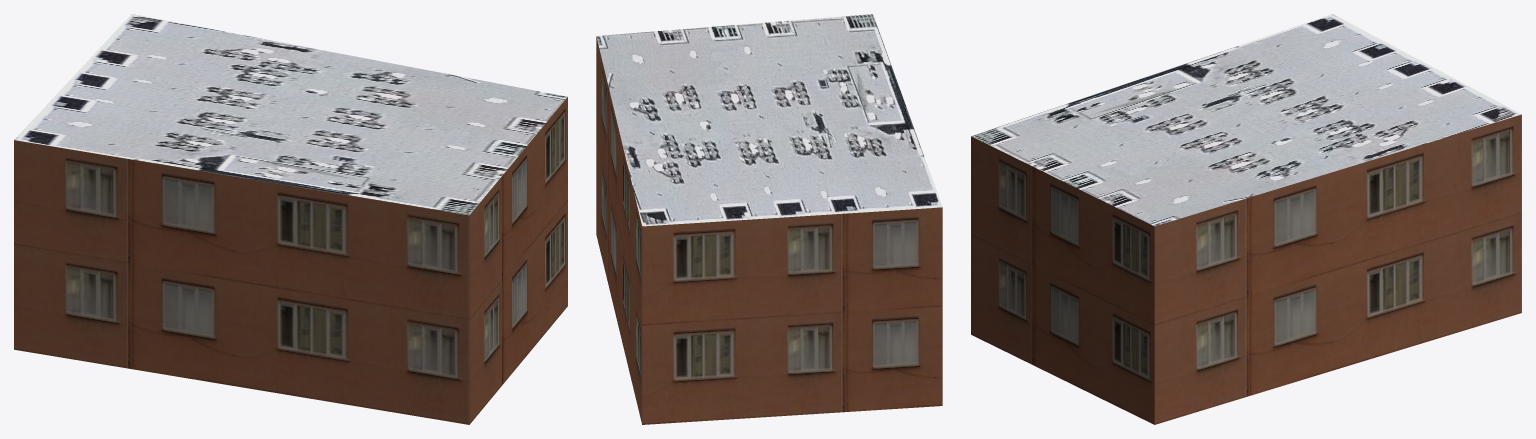
File: ResTex__4806.fbx
3 renders of one model, left to right at view 1: azimuth 30°, elevation 25°; view 2: azimuth 150°, elevation 25°; view 3: azimuth 270°, elevation 25°, orthographic. The views are drawn at different scales.
Parts seen in each view (by area): view 1: CityEngineMaterial_20_m, CityEngineMaterial_8_m; view 2: CityEngineMaterial_20_m, CityEngineMaterial_8_m; view 3: CityEngineMaterial_20_m, CityEngineMaterial_8_m.
Boxes of the visible parts, <box> form: CityEngineMaterial_20_m: <box>14,97,567,424</box>; CityEngineMaterial_8_m: <box>14,14,567,215</box>; CityEngineMaterial_20_m: <box>596,37,942,424</box>; CityEngineMaterial_8_m: <box>596,14,942,226</box>; CityEngineMaterial_20_m: <box>971,114,1521,424</box>; CityEngineMaterial_8_m: <box>971,14,1521,226</box>.
Size of the model in its own units: 13.77 by 6 by 15.09.
Materials: 2 (2 with a texture image).
